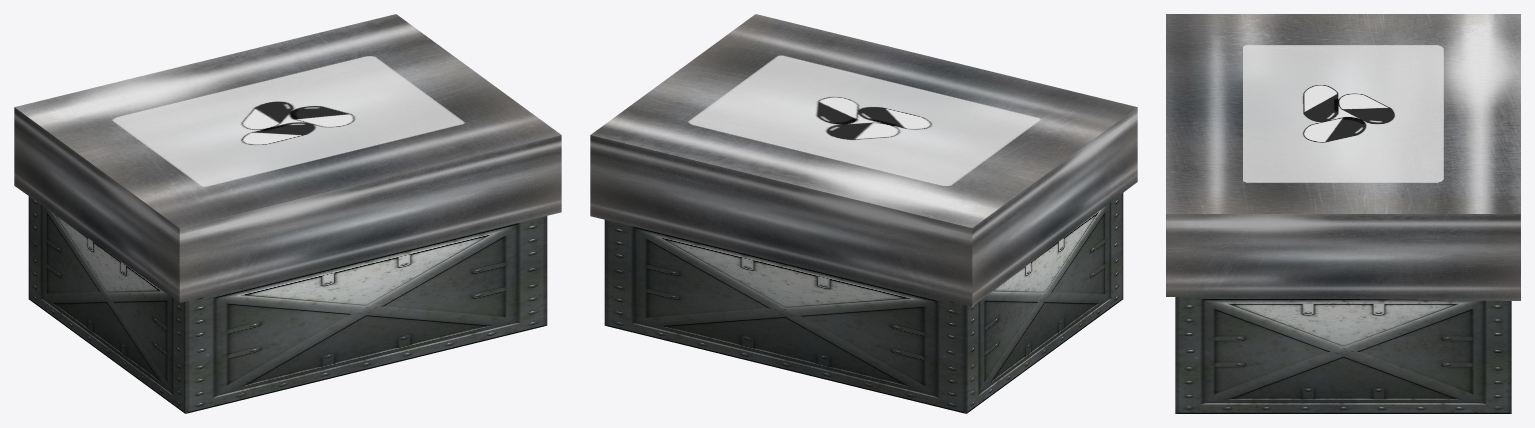
The model's file is CajaMunicion.fbx.
3 renders of one model, left to right at view 1: azimuth 30°, elevation 25°; view 2: azimuth 150°, elevation 25°; view 3: azimuth 270°, elevation 25°, orthographic. The views are drawn at different scales.
Visible parts, largest first — view 1: pCube1; view 2: pCube1; view 3: pCube1.
Part boxes in pixels (x1=…): pCube1: x1=14, y1=14, x2=561, y2=413; pCube1: x1=590, y1=14, x2=1137, y2=413; pCube1: x1=1166, y1=14, x2=1520, y2=413.
Size of the model in its own units: 2.11 by 1.01 by 1.58.
4 materials, 4 textured.
